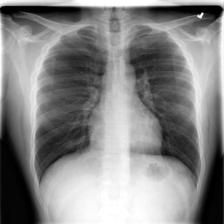normal: (29, 19, 204, 196)
